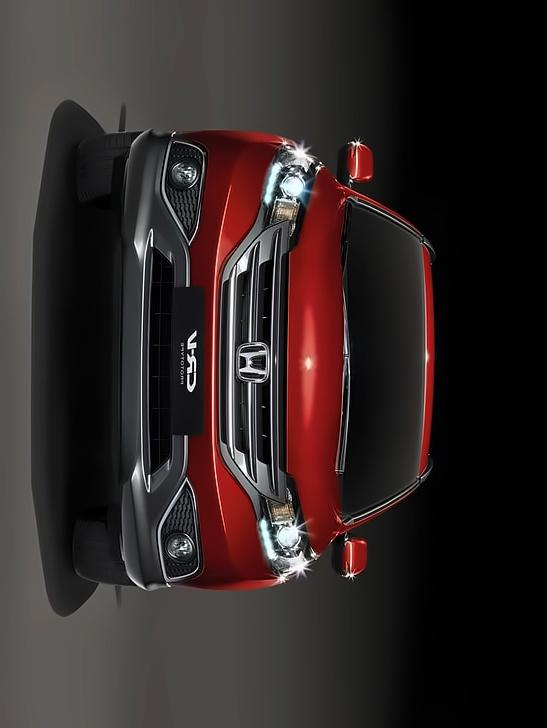Car hood: (278, 166, 346, 555)
Front bumper: (106, 127, 288, 594)
Headlight - -L-: (257, 490, 314, 574)
Headlight - -R-: (257, 142, 319, 243)
Side mirror - -L-: (333, 532, 371, 585)
Side mirror - -R-: (332, 138, 375, 195)
